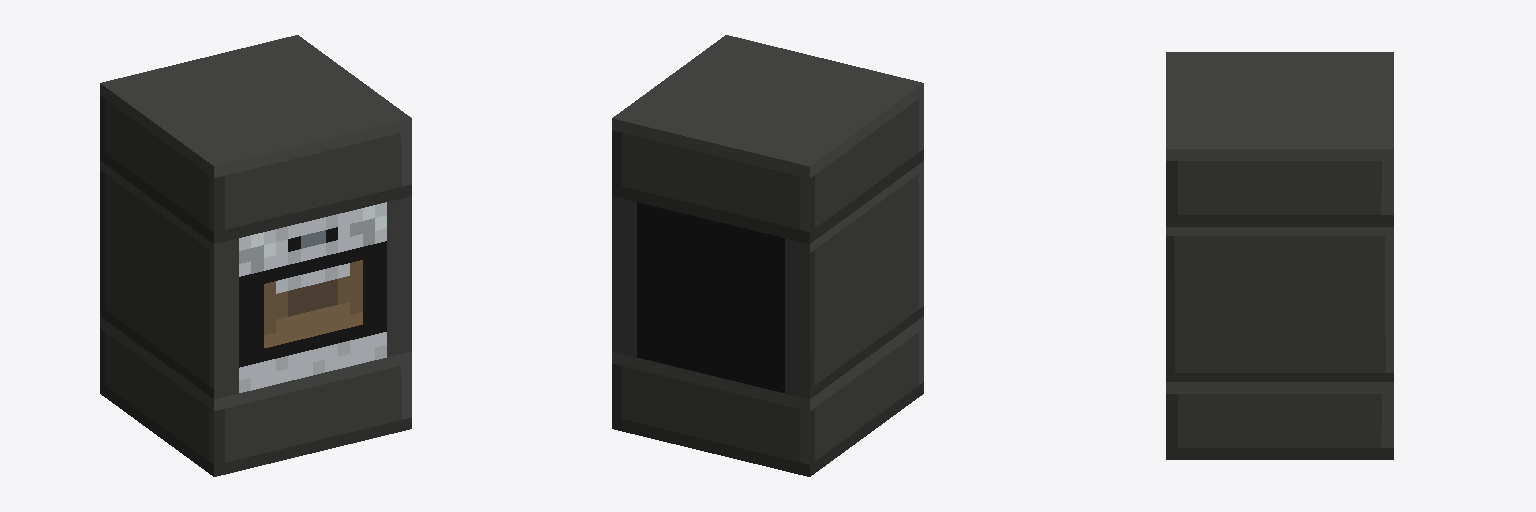
The picture shows the model from 3 angles: view 1: azimuth 30°, elevation 25°; view 2: azimuth 150°, elevation 25°; view 3: azimuth 270°, elevation 25°; orthographic projection.
Parts seen in each view (by area): view 1: Cube.001, Cube.005_Cube.001, Cube.002, Cube.000_Cube.004, Cube.004; view 2: Cube.001, Cube.005_Cube.001, Cube.002, Cube.000_Cube.004, Cube.004; view 3: Cube.001, Cube.004, Cube.005_Cube.001.
Boxes of the visible parts, <box> form: Cube.001: <box>100,35,411,243</box>; Cube.005_Cube.001: <box>100,316,411,476</box>; Cube.002: <box>239,202,386,392</box>; Cube.000_Cube.004: <box>100,161,238,399</box>; Cube.004: <box>387,196,411,356</box>; Cube.001: <box>612,35,923,243</box>; Cube.005_Cube.001: <box>612,316,923,476</box>; Cube.002: <box>637,202,784,392</box>; Cube.000_Cube.004: <box>785,161,923,399</box>; Cube.004: <box>612,196,636,356</box>; Cube.001: <box>1166,52,1393,226</box>; Cube.004: <box>1166,227,1393,381</box>; Cube.005_Cube.001: <box>1166,382,1393,459</box>.
Bounding box in the file's own units: 0.8 × 1.2 × 0.8.
3 materials, 3 textured.